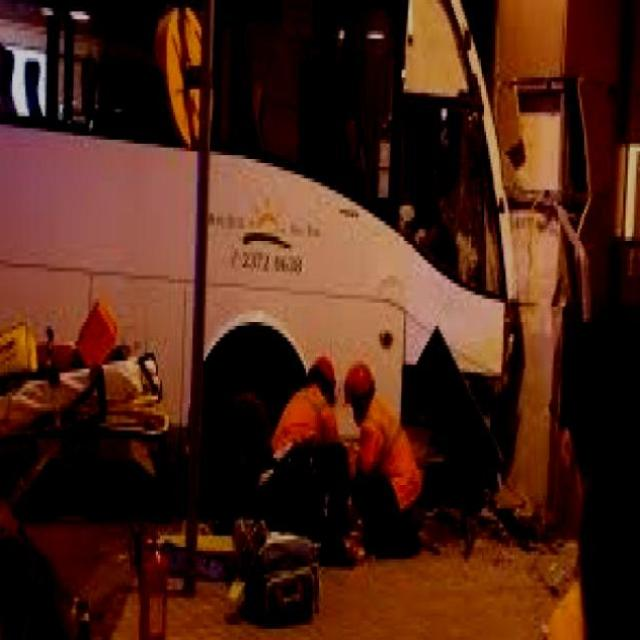accident: (387, 1, 605, 535)
